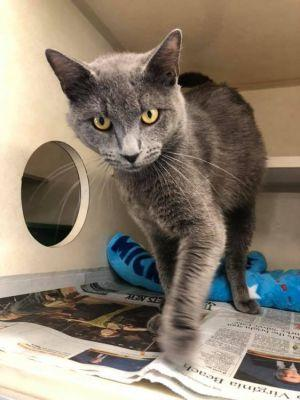rblue: (43, 24, 196, 178)
